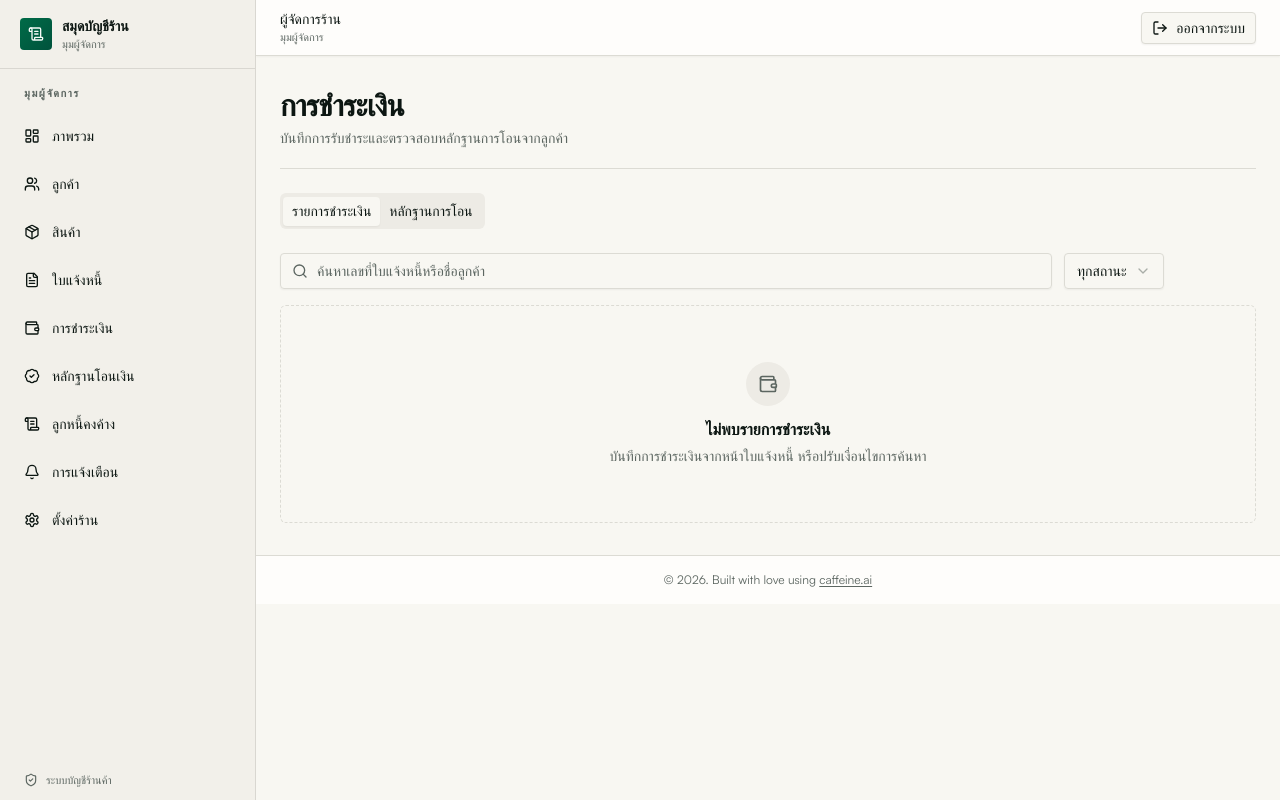
PaymentsPage › shows an empty state when no proofs have been uploaded
Click the tab with test id "payments.proofs_tab". click: click(431, 211)
box: [380, 196, 482, 226]
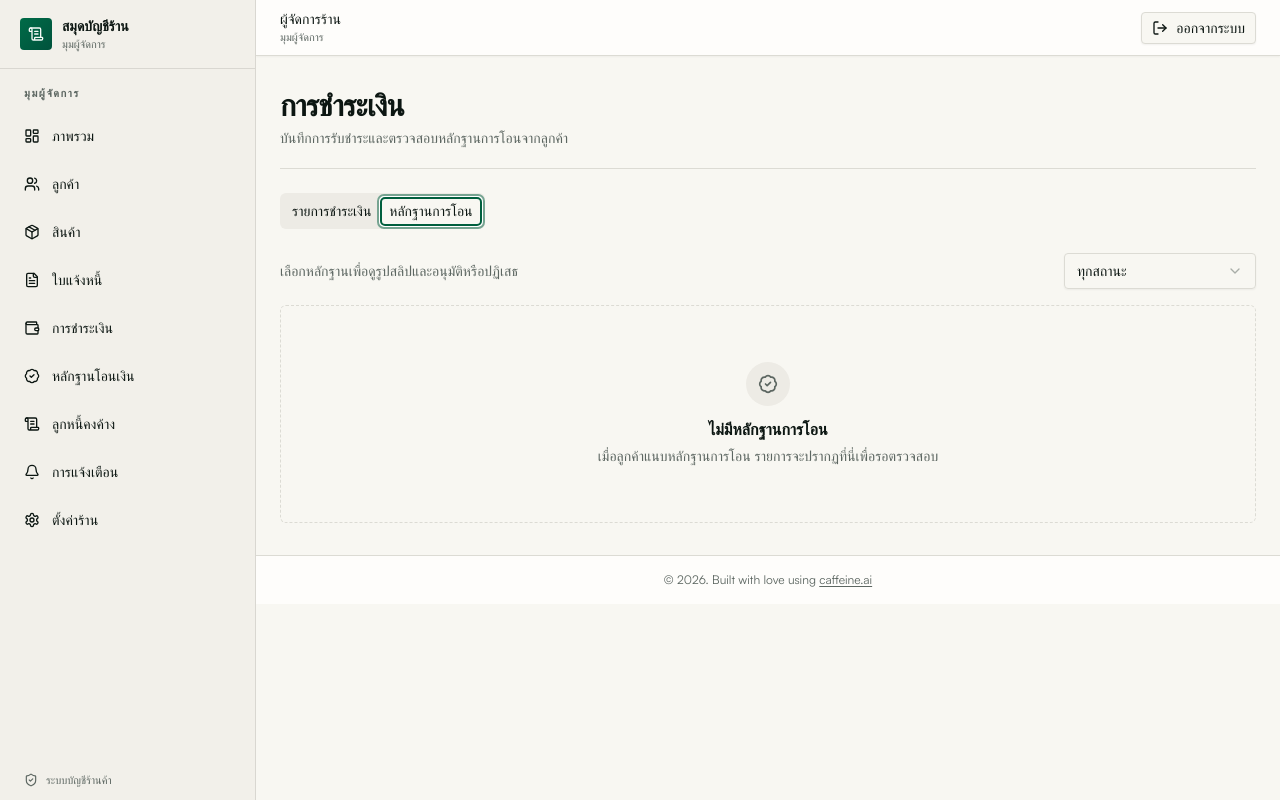
Check: the heading "ไม่มีหลักฐานการโอน" is shown, box [708, 419, 828, 440]
